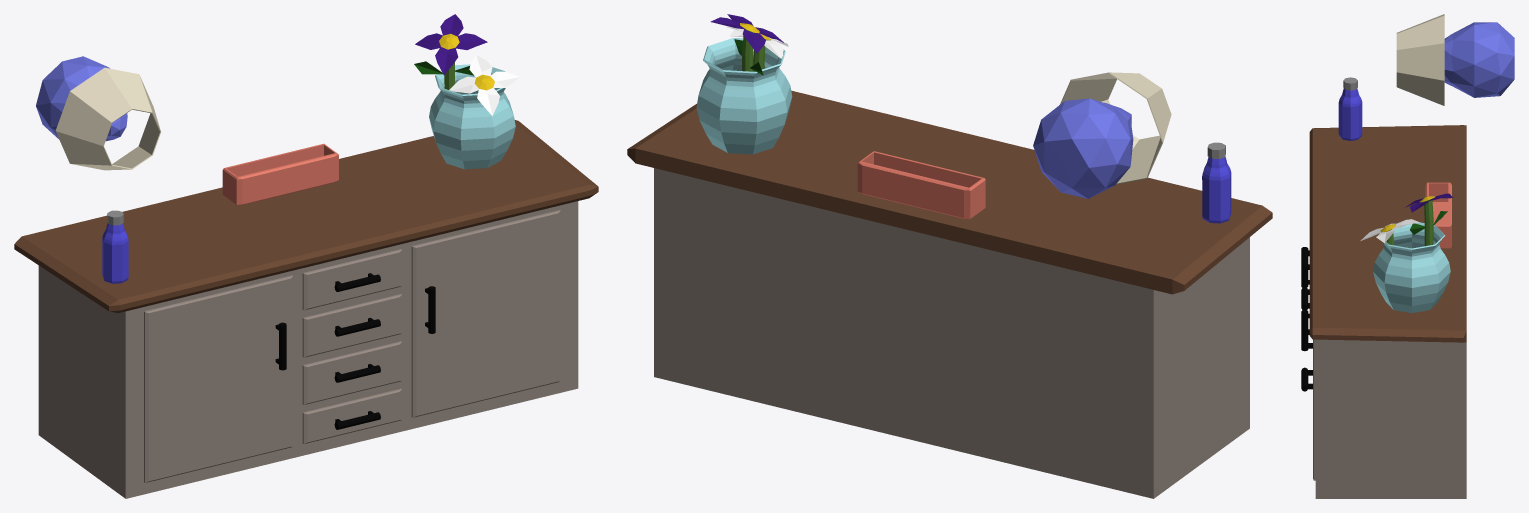
The model's file is Counter and Drawer.fbx.
The picture shows the model from 3 angles, left to right: view 1: azimuth 30°, elevation 25°; view 2: azimuth 150°, elevation 25°; view 3: azimuth 270°, elevation 25°; orthographic projection. The views are drawn at different scales.
Visible parts, largest first — view 1: Cylinder.001, Cylinder, Cylinder.006, Cube, Petals.001, Cylinder.002, Petals.002; view 2: Cylinder.001, Cylinder, Cylinder.006, Cube, Cylinder.002, Petals.001; view 3: Cylinder.001, Cylinder, Cylinder.006, Cylinder.002, Cube, Petals.001, Petals.002.
Part boxes in pixels (box(x1,y1,x2,y2)): Cylinder.001: box(14, 120, 598, 498); Cylinder: box(36, 56, 160, 170); Cylinder.006: box(429, 64, 515, 169); Cube: box(222, 143, 338, 205); Petals.001: box(414, 14, 487, 91); Cylinder.002: box(102, 210, 128, 283); Petals.002: box(449, 55, 519, 115); Cylinder.001: box(627, 90, 1272, 498); Cylinder: box(1033, 72, 1171, 198); Cylinder.006: box(696, 38, 792, 154); Cube: box(857, 151, 985, 218); Cylinder.002: box(1202, 142, 1231, 223); Petals.001: box(710, 14, 783, 75); Cylinder.001: box(1301, 125, 1466, 498); Cylinder: box(1396, 14, 1514, 105); Cylinder.006: box(1373, 222, 1450, 313); Cylinder.002: box(1338, 77, 1362, 140); Cube: box(1425, 182, 1451, 248); Petals.001: box(1405, 193, 1452, 246); Petals.002: box(1360, 219, 1419, 245).
Bounding box in the file's own units: 668 × 460 × 283.
